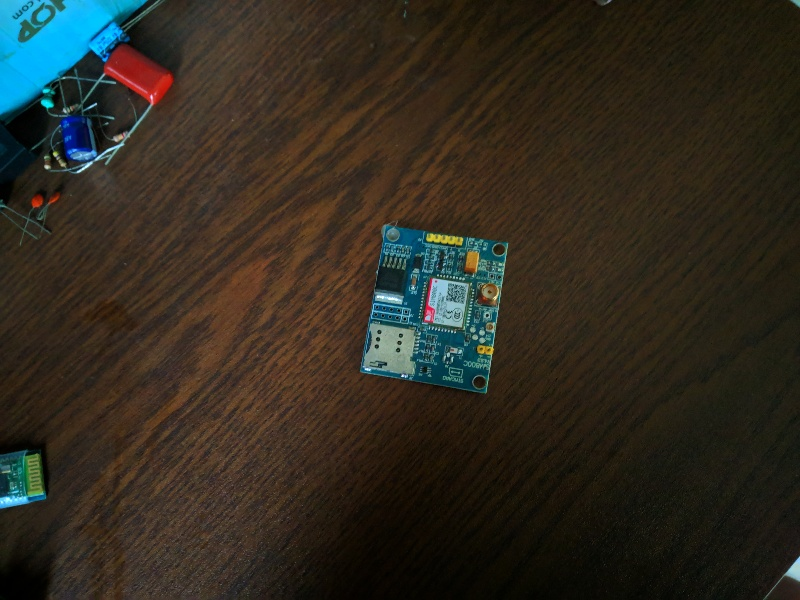SIM800: (353, 219, 515, 400)
